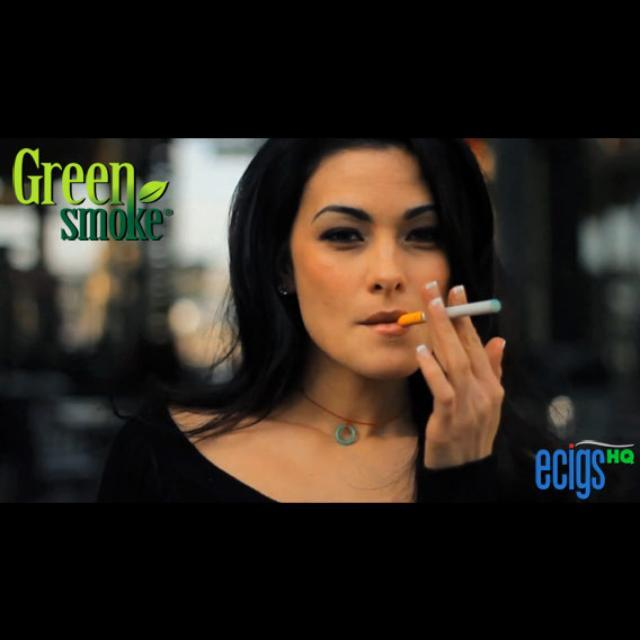rokok: (394, 294, 504, 332)
